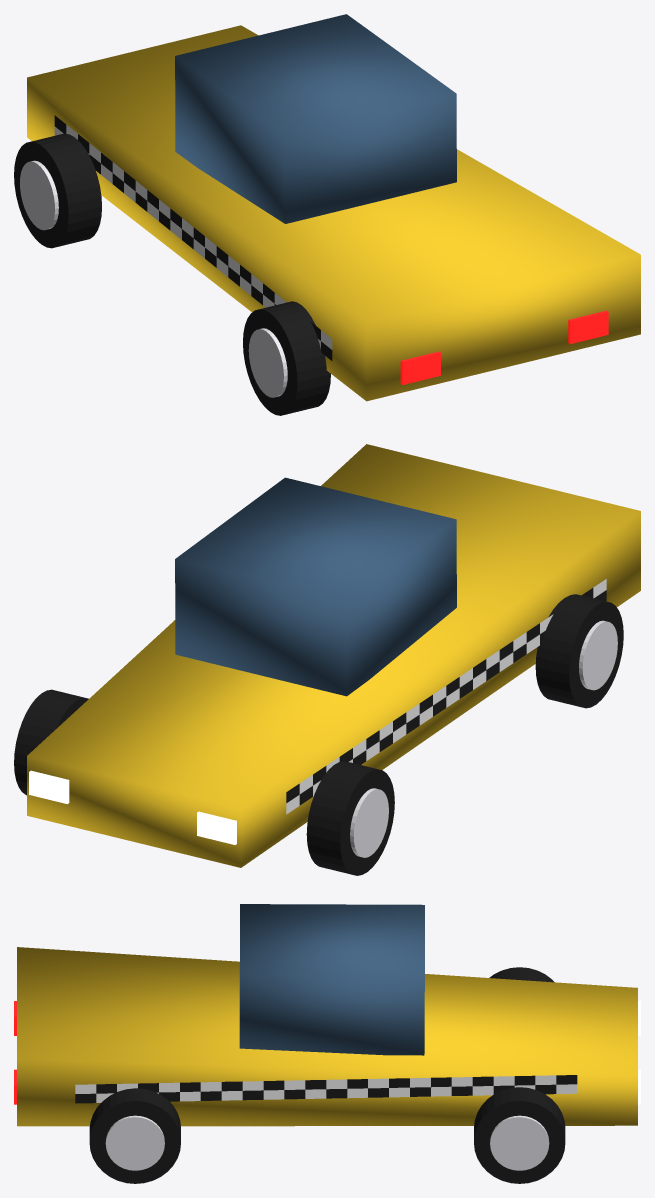
The model's file is Taxi.glb.
3 renders of one model, top to bottom at view 1: azimuth 30°, elevation 25°; view 2: azimuth 150°, elevation 25°; view 3: azimuth 270°, elevation 25°, orthographic. The views are drawn at different scales.
Parts seen in each view (by area): view 1: Taxi_Car, Wheel_FL, Wheel_RL, Stripe_Left, Куб.003, Куб.004; view 2: Taxi_Car, Wheel_FL, Wheel_RL, Stripe_Left, Wheel_FR, Куб.002, Куб.001; view 3: Taxi_Car, Stripe_Right, Wheel_FR, Wheel_RR, Wheel_FL.
Boxes of the visible parts, x1,y1,x2,y2 form: Taxi_Car: [27, 14, 640, 401]; Wheel_FL: [14, 133, 101, 248]; Wheel_RL: [243, 301, 330, 415]; Stripe_Left: [54, 115, 332, 360]; Куб.003: [400, 351, 440, 384]; Куб.004: [568, 310, 608, 344]; Taxi_Car: [27, 444, 640, 867]; Wheel_FL: [306, 761, 394, 875]; Wheel_RL: [535, 594, 623, 708]; Stripe_Left: [286, 579, 606, 814]; Wheel_FR: [14, 689, 88, 795]; Куб.002: [29, 770, 69, 804]; Куб.001: [197, 811, 236, 844]; Taxi_Car: [17, 904, 637, 1126]; Stripe_Right: [75, 1075, 577, 1103]; Wheel_FR: [474, 1087, 565, 1183]; Wheel_RR: [89, 1088, 180, 1183]; Wheel_FL: [489, 967, 554, 982].
Size of the model in its own units: 2.19 by 1.33 by 4.24.
